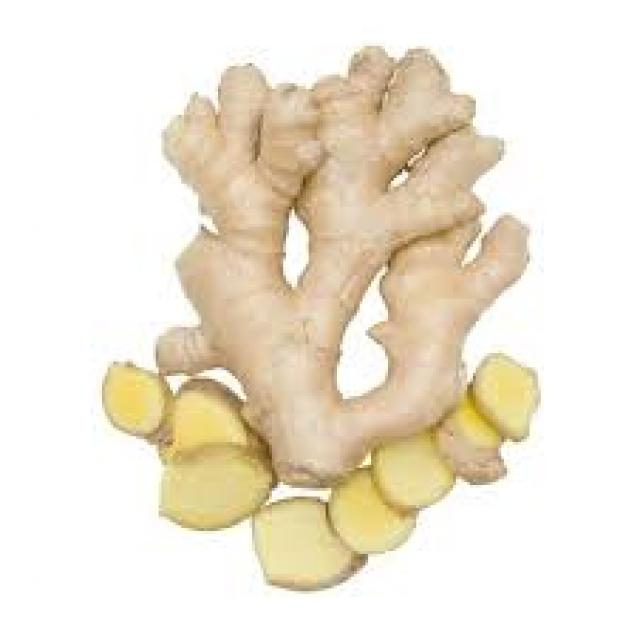ginger: (76, 52, 576, 597)
